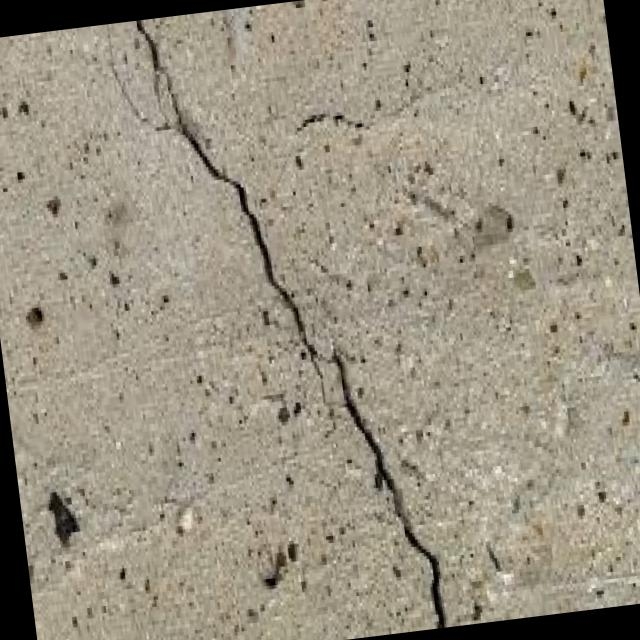crack: (129, 0, 448, 640), (99, 17, 173, 136), (289, 98, 366, 135)
